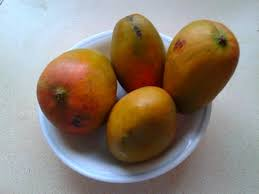mango: (164, 6, 247, 111), (37, 47, 109, 132), (112, 86, 180, 163), (106, 8, 161, 83)
